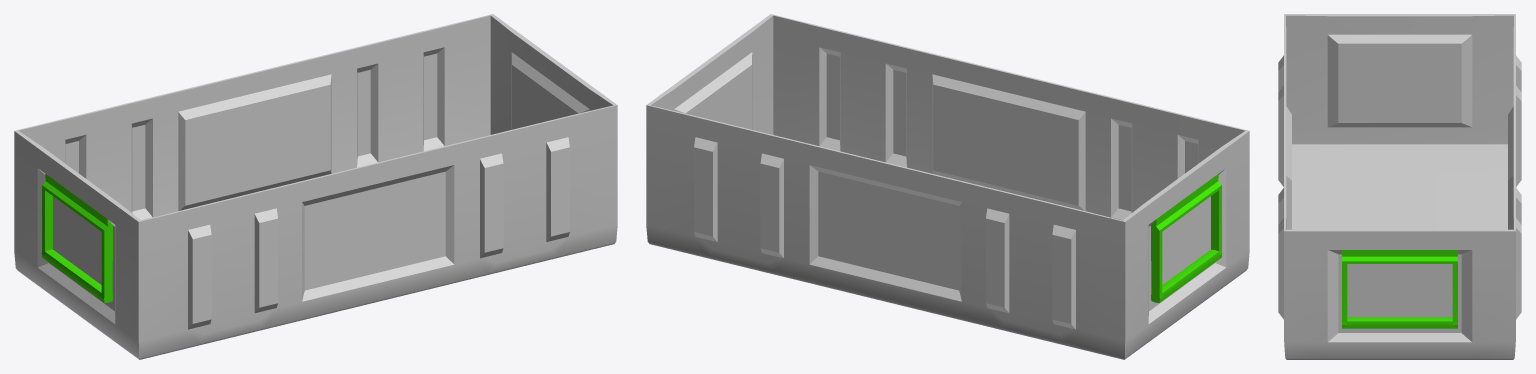
File: AmmoCrate_Bottom.fbx
3 renders of one model, left to right at view 1: azimuth 30°, elevation 25°; view 2: azimuth 150°, elevation 25°; view 3: azimuth 270°, elevation 25°, orthographic. The views are drawn at different scales.
Visible parts, largest first — view 1: AmmoCrate.Bottom; view 2: AmmoCrate.Bottom; view 3: AmmoCrate.Bottom.
Part boxes in pixels (box(x1,y1,x2,y2)): AmmoCrate.Bottom: box(14, 14, 617, 359); AmmoCrate.Bottom: box(646, 14, 1249, 359); AmmoCrate.Bottom: box(1278, 14, 1521, 359).
Bounding box in the file's own units: 180 × 49.41 × 84.
